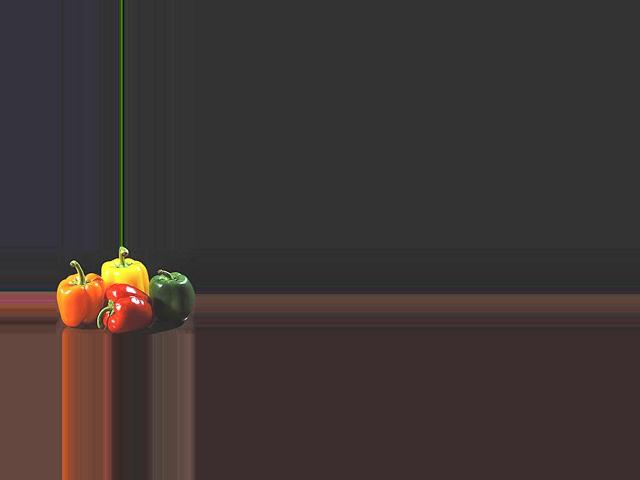bell_pepper: (56, 266, 106, 335)
